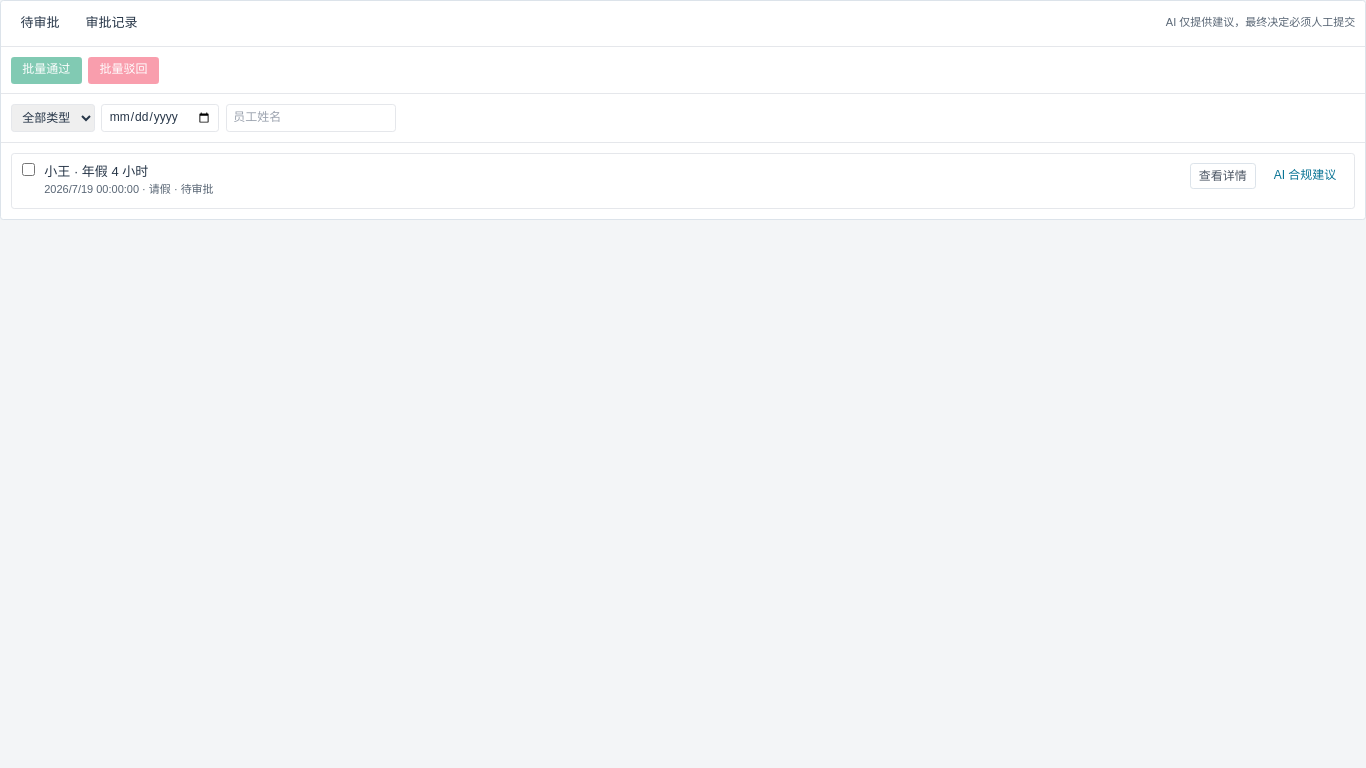
Test: filters rows and opens a detail drawer
Type "小王" into the field named "员工筛选" at (311, 118), box [226,104,396,132]
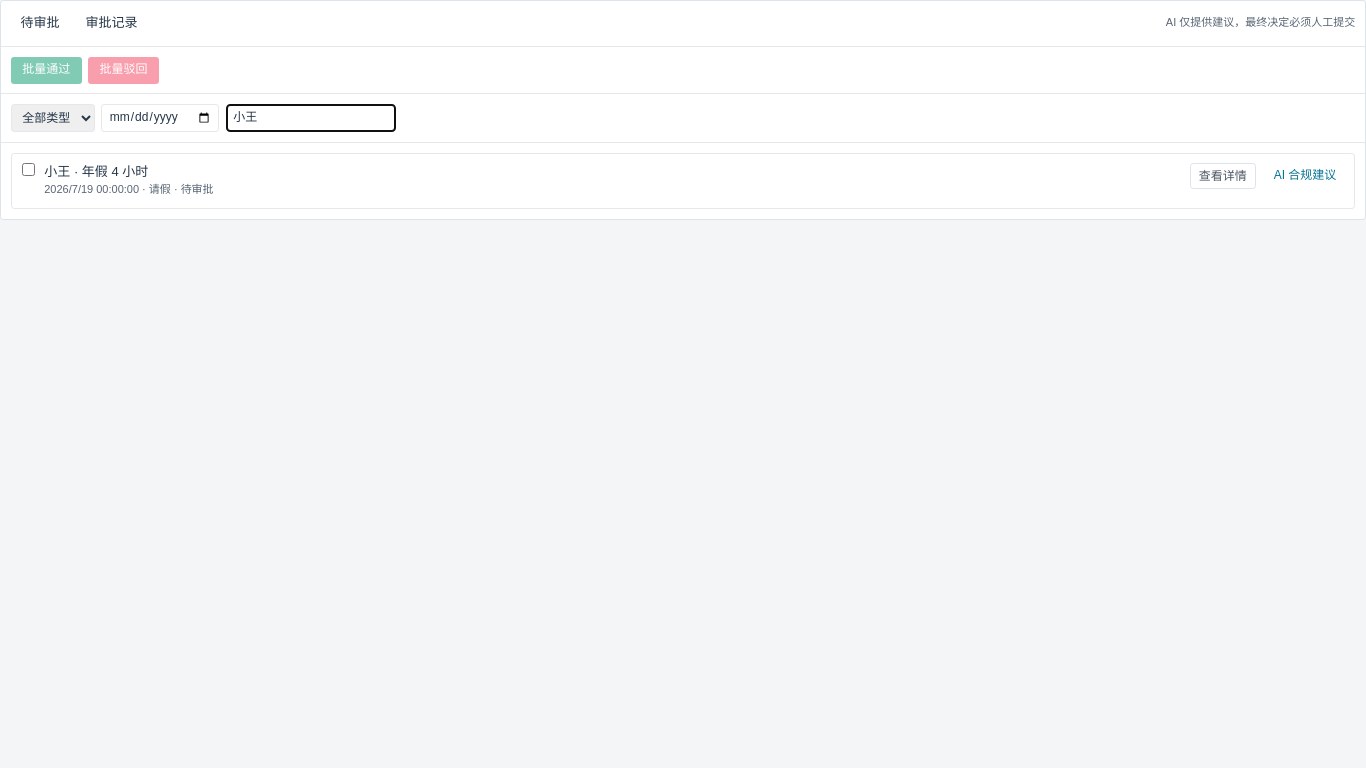
Click the button "查看详情" at (1223, 176), box [1190,163,1256,189]
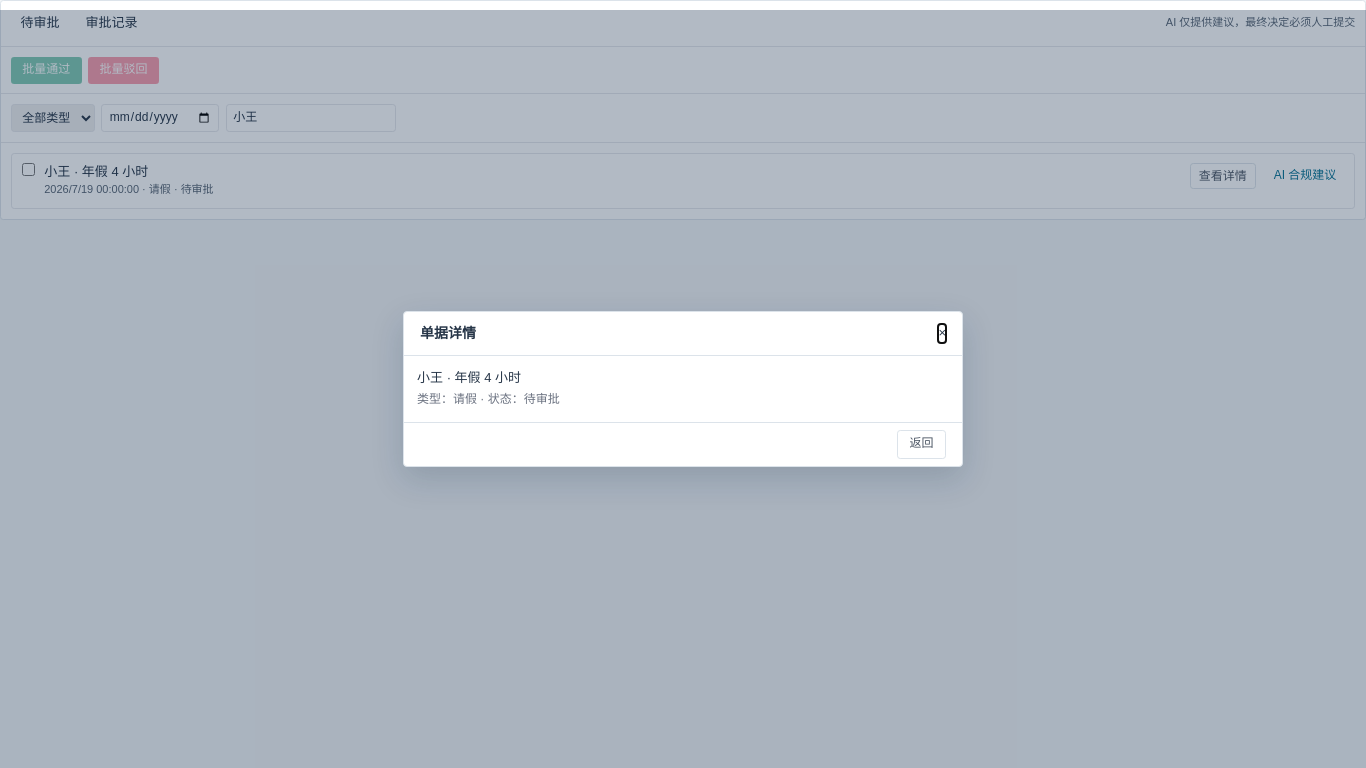
Expected: the dialog "单据详情" is shown, [403,311,963,467]
